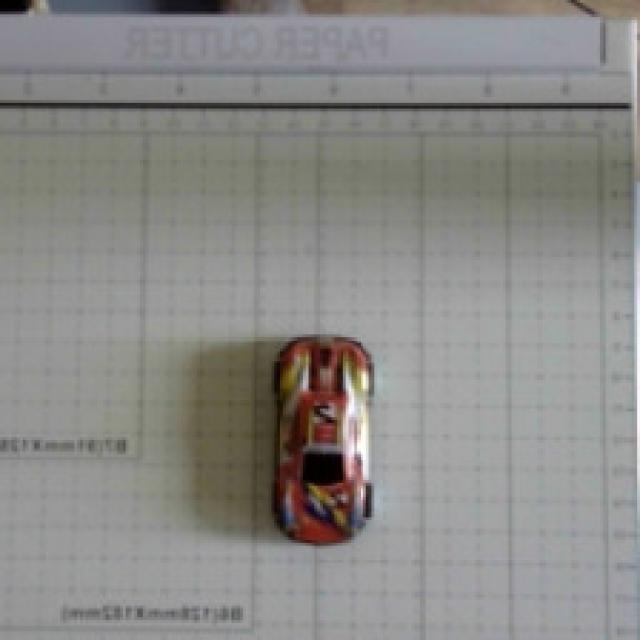Red Car: (224, 293, 474, 603)
